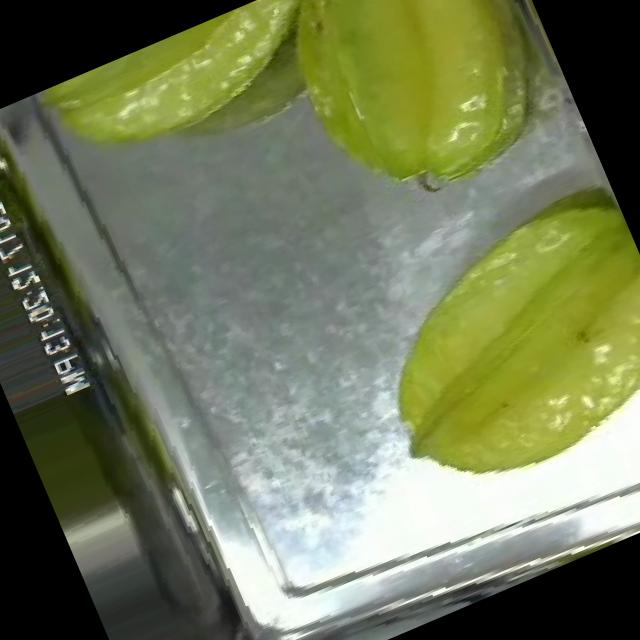fruit: (327, 169, 640, 529), (240, 0, 594, 253), (21, 0, 371, 204)
